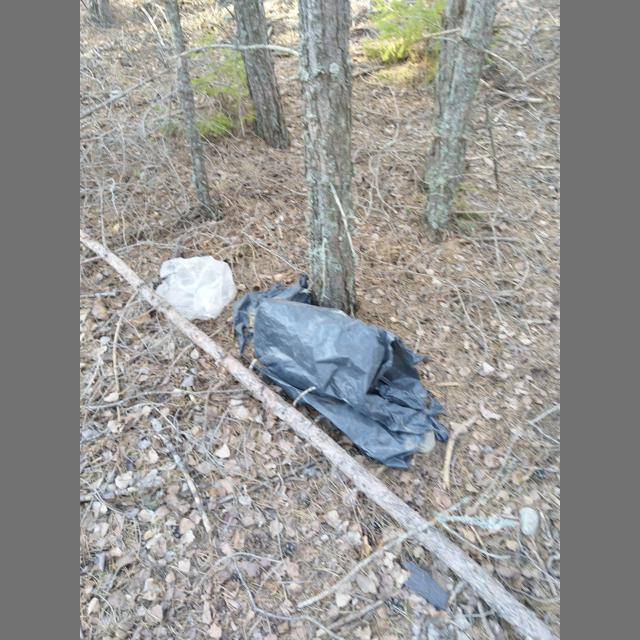litter: (233, 273, 450, 468), (155, 255, 238, 321)
